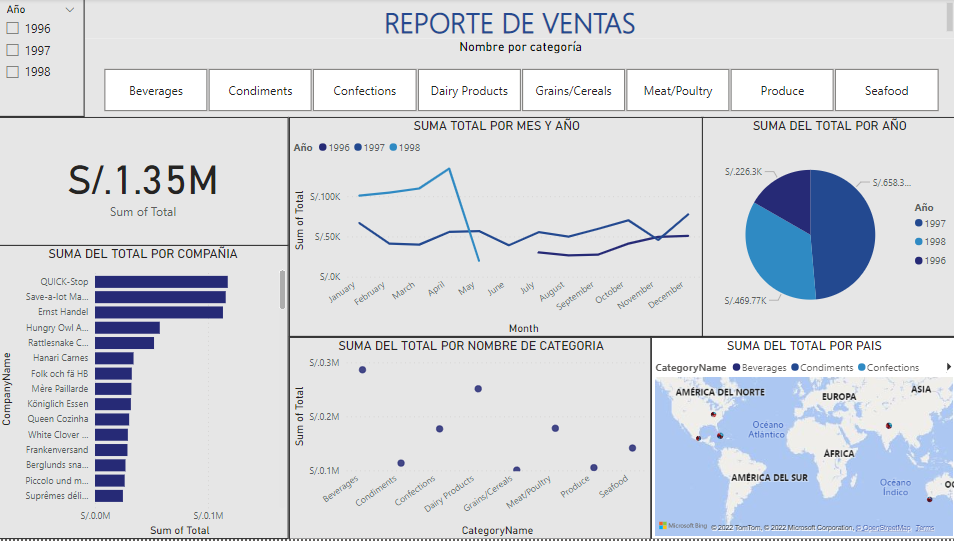

This screenshot's page, from the dashboard's own definition file:
{"tool":"powerbi","page":{"name":"Page 1","canvas":[1280,720],"ordinal":0},"visuals":[{"type":"textbox","box":[118.3,0,1161.7,53.3],"z":0},{"type":"slicer","title":"Nombre por categoría","fields":{"Values":["Categories.CategoryName"]},"box":[118.3,53.3,1161.7,103.3],"z":1000},{"type":"slicer","fields":{"Values":["Fechas.Año"]},"box":[0,0,118.3,156.7],"z":2000},{"type":"card","fields":{"Values":["Sum(Orders.Total)"]},"box":[0,156.7,390,171.7],"z":3000},{"type":"lineChart","title":"SUMA TOTAL POR MES Y AÑO","fields":{"Category":["Fechas.Date.Variation.Date Hierarchy.Month"],"Y":["Sum(Orders.Total)"],"Series":["Fechas.Año"]},"box":[390,156.7,551.7,293.3],"z":4000},{"type":"pieChart","title":"SUMA DEL TOTAL POR AÑO","fields":{"Category":["Fechas.Año"],"Y":["Sum(Orders.Total)"]},"box":[941.7,156.7,338.3,293.3],"z":5000},{"type":"clusteredBarChart","title":"SUMA DEL TOTAL POR COMPAÑIA","fields":{"Category":["Customers.CompanyName"],"Y":["Sum(Orders.Total)"]},"box":[0,328.3,390,391.7],"z":6000},{"type":"scatterChart","title":"SUMA DEL TOTAL POR NOMBRE DE CATEGORIA","fields":{"Y":["Sum(Orders.Total)"],"X":["Categories.CategoryName"]},"box":[390,450,483.3,270],"z":7000},{"type":"map","title":"SUMA DEL TOTAL POR PAIS","fields":{"Category":["Customers.Country"],"Size":["Sum(Orders.Total)"],"Series":["Categories.CategoryName"]},"box":[873.3,450,406.7,270],"z":8000}]}

Visuals, with their boxes in screenshot pixels (x1, y1, x2, y2):
textbox: [89,2,943,42]
"Nombre por categoría" slicer: [89,42,943,118]
slicer - Fechas.Año: [2,2,89,118]
card - Sum(Orders.Total): [2,118,289,244]
"SUMA TOTAL POR MES Y AÑO" lineChart: [289,118,695,333]
"SUMA DEL TOTAL POR AÑO" pieChart: [695,118,943,333]
"SUMA DEL TOTAL POR COMPAÑIA" clusteredBarChart: [2,244,289,532]
"SUMA DEL TOTAL POR NOMBRE DE CATEGORIA" scatterChart: [289,333,644,532]
"SUMA DEL TOTAL POR PAIS" map: [644,333,943,532]
